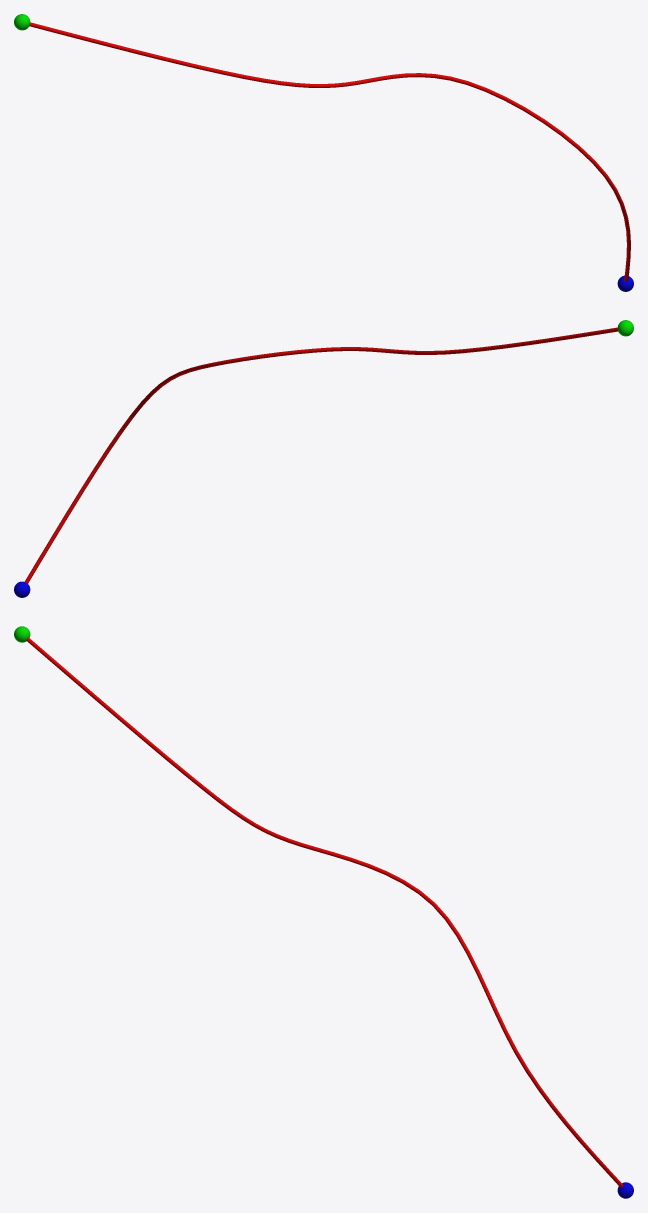
File: paths.obj
The picture shows the model from 3 angles, top to bottom: view 1: azimuth 30°, elevation 25°; view 2: azimuth 150°, elevation 25°; view 3: azimuth 330°, elevation 25°; orthographic projection.
Size of the model in its own units: 1.74 by 1.14 by 0.2453.
